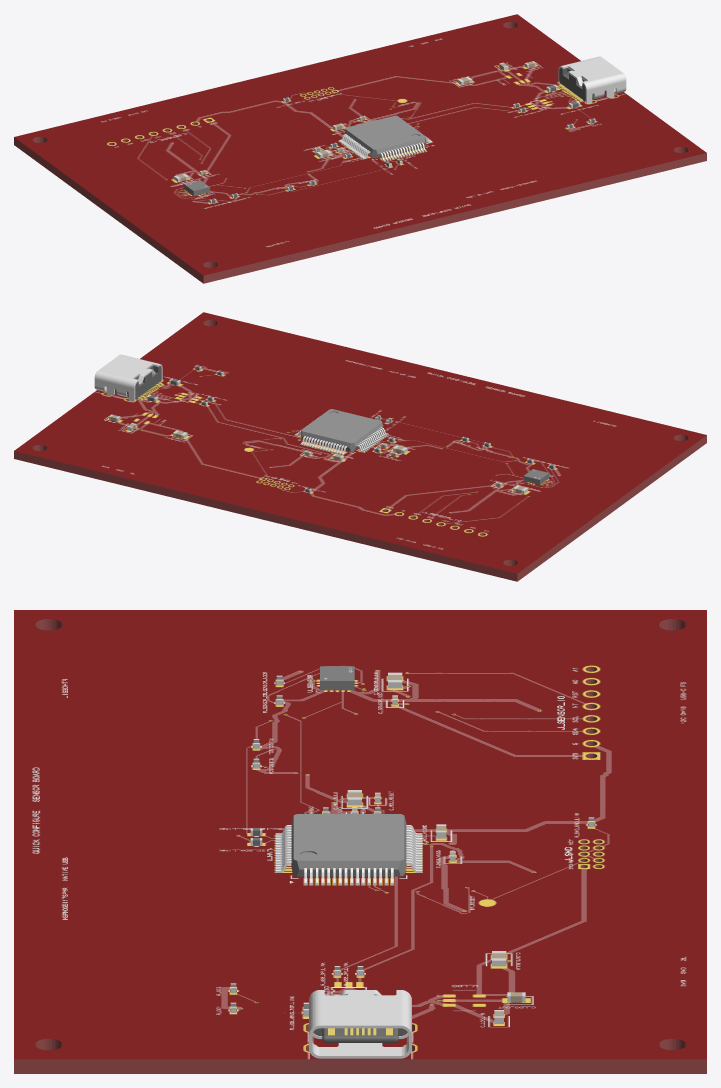
The picture shows the model from 3 angles, top to bottom: view 1: azimuth 30°, elevation 25°; view 2: azimuth 150°, elevation 25°; view 3: azimuth 270°, elevation 25°; orthographic projection. The views are drawn at different scales.
Parts seen in each view (by area): view 1: Box0, U_MAIN, J_USB; view 2: Box0, U_MAIN, J_USB; view 3: Box0, U_MAIN, J_USB, U_SENSOR.
Boxes of the visible parts, x1=… form: Box0: x1=14, y1=14, x2=706, y2=283; U_MAIN: x1=338, y1=115, x2=432, y2=161; J_USB: x1=558, y1=56, x2=626, y2=103; Box0: x1=14, y1=312, x2=706, y2=581; U_MAIN: x1=294, y1=409, x2=388, y2=454; J_USB: x1=94, y1=354, x2=162, y2=401; Box0: x1=14, y1=610, x2=706, y2=1073; U_MAIN: x1=275, y1=814, x2=422, y2=885; J_USB: x1=309, y1=990, x2=411, y2=1058; U_SENSOR: x1=320, y1=666, x2=354, y2=690.
Bounding box in the file's own units: 92.04 × 4.65 × 60.
Materials: 15 (2 with a texture image).
